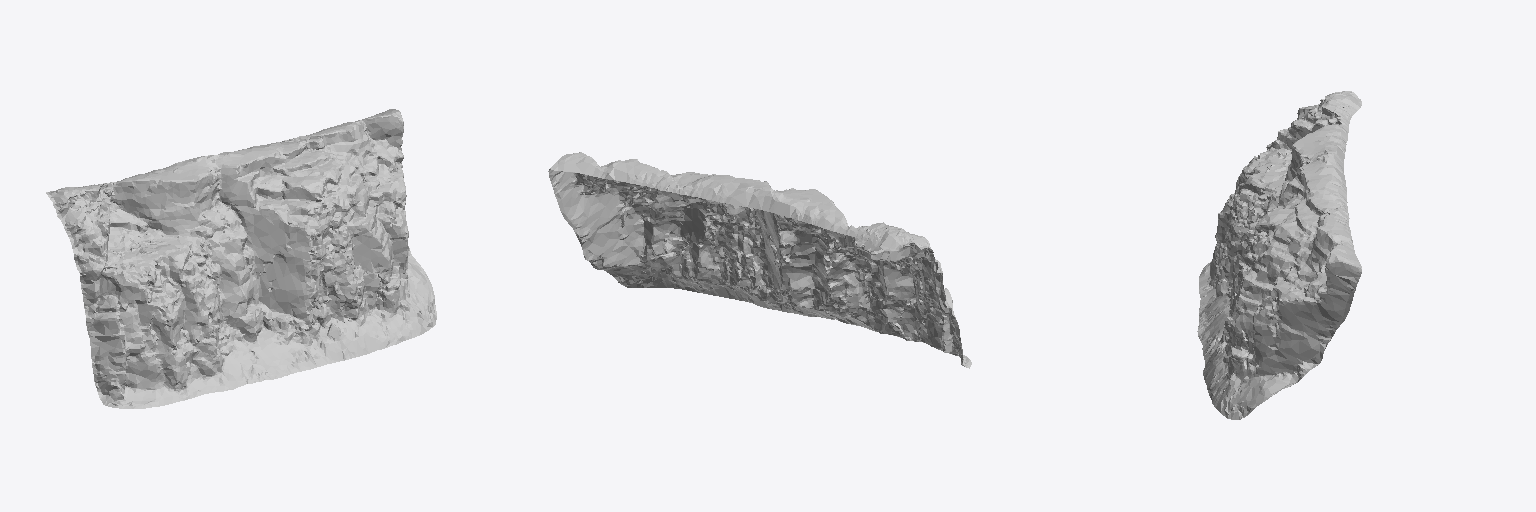
File: cliff.obj
3 renders of one model, left to right at view 1: azimuth 30°, elevation 25°; view 2: azimuth 150°, elevation 25°; view 3: azimuth 270°, elevation 25°, orthographic.
Parts seen in each view (by area): view 1: Aset_rock_cliffs_XL_ubhubhyda_LOD0; view 2: Aset_rock_cliffs_XL_ubhubhyda_LOD0; view 3: Aset_rock_cliffs_XL_ubhubhyda_LOD0.
Part boxes in pixels (left/top/right/bottom): Aset_rock_cliffs_XL_ubhubhyda_LOD0: left=46, top=109, right=436, bottom=408; Aset_rock_cliffs_XL_ubhubhyda_LOD0: left=548, top=152, right=971, bottom=368; Aset_rock_cliffs_XL_ubhubhyda_LOD0: left=1197, top=91, right=1361, bottom=419.
Bounding box in the file's own units: 13.82 × 6.61 × 5.53.